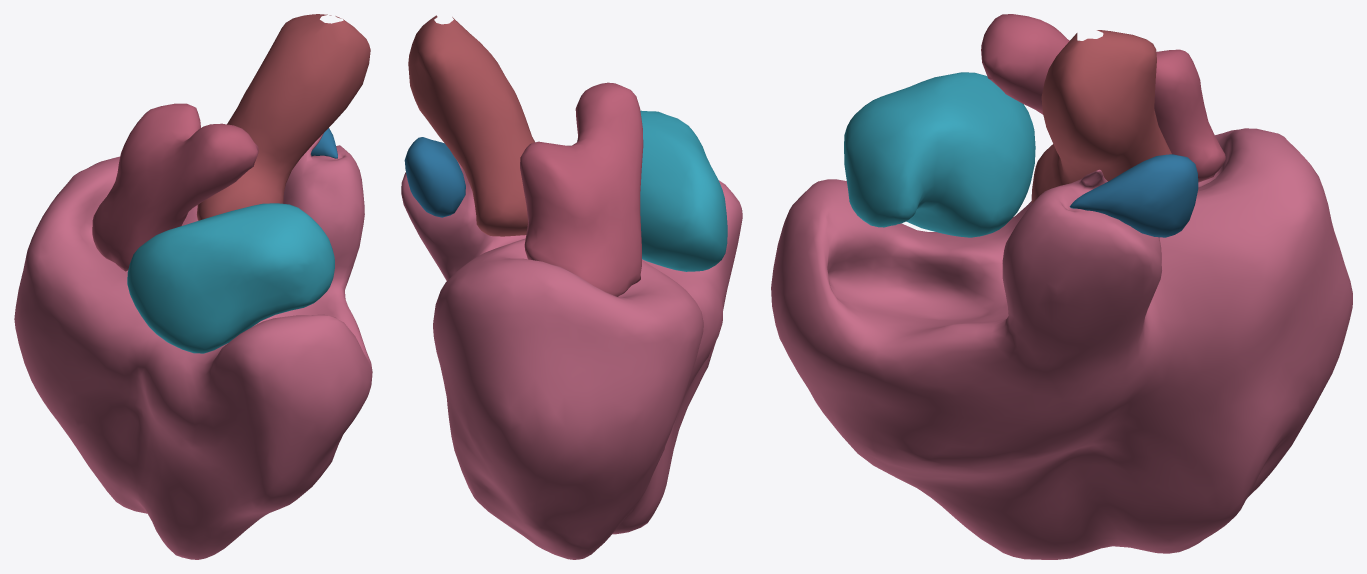
The model's file is frame_55.glb.
3 views of the same model, side by side, from view 1: azimuth 30°, elevation 25°; view 2: azimuth 150°, elevation 25°; view 3: azimuth 270°, elevation 25° (orthographic). The views are drawn at different scales.
Parts seen in each view (by area): view 1: Renderer Node; view 2: Renderer Node; view 3: Renderer Node.
Boxes of the visible parts, x1,y1,x2,y2 form: Renderer Node: [14, 14, 372, 559]; Renderer Node: [401, 15, 742, 559]; Renderer Node: [771, 14, 1352, 559].
Bounding box in the file's own units: 102 × 158 × 134.
